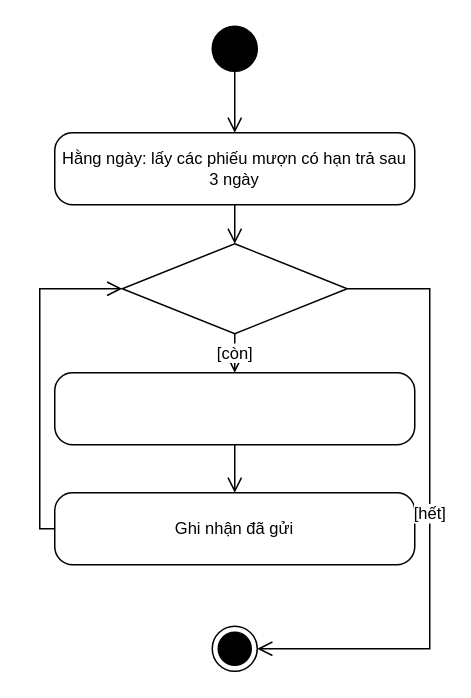
Some shapes in this 471 by 698 pixel diagram are drawn without their labels. Each missing label, with the centre of its shape:
Còn phiếu chưa gửi?: point 234,288
Gửi email nhắc hạn trả cho độc giả: point 234,408
